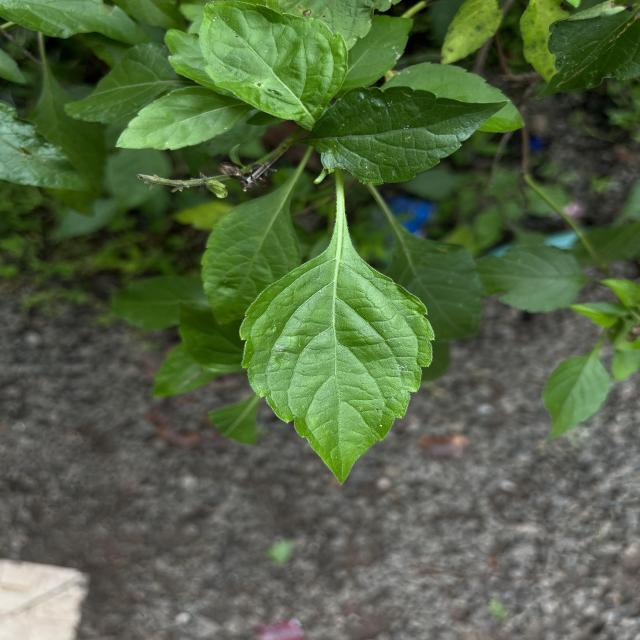Ocimum gratissimum: (235, 206, 439, 486), (298, 84, 514, 189), (196, 0, 354, 129)
